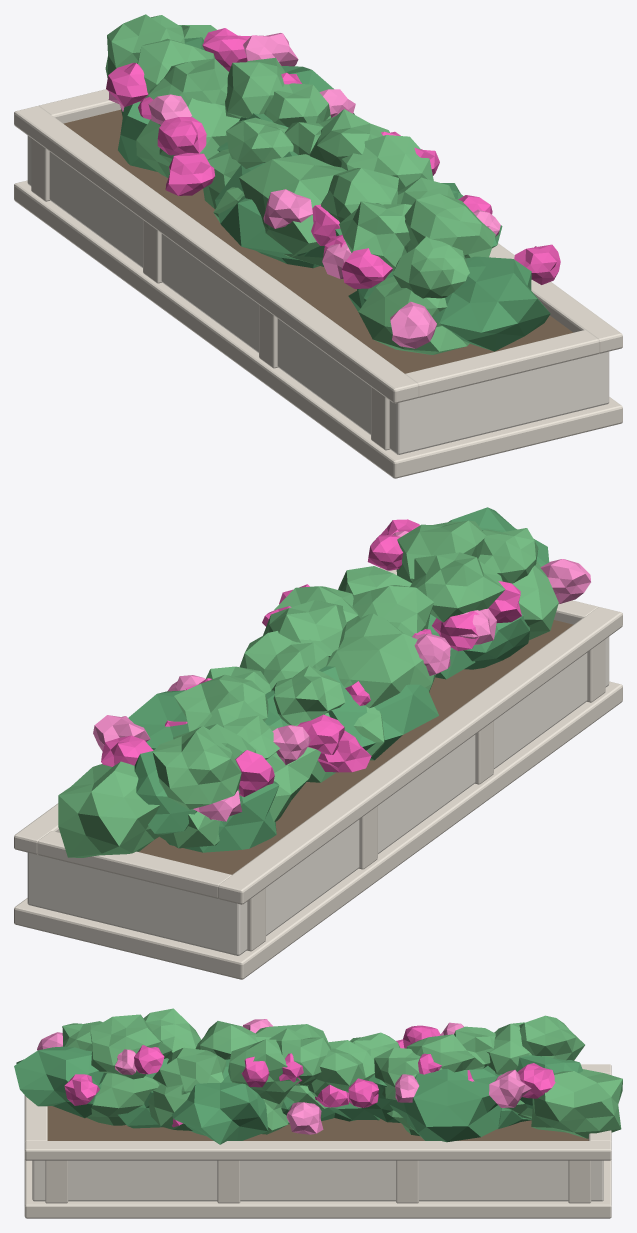
The model's file is prop_bougainvillea_planter.glb.
3 views of the same model, one above another, from view 1: azimuth 30°, elevation 25°; view 2: azimuth 150°, elevation 25°; view 3: azimuth 270°, elevation 25° (orthographic). The views are drawn at different scales.
Visible parts, largest first — view 1: BasePlinth; view 2: BasePlinth; view 3: BasePlinth.
Boxes of the visible parts, x1,y1,x2,y2 form: BasePlinth: (14, 14, 622, 478); BasePlinth: (14, 507, 622, 979); BasePlinth: (14, 1008, 622, 1218).
Size of the model in its own units: 1.6 by 1.34 by 4.77.
